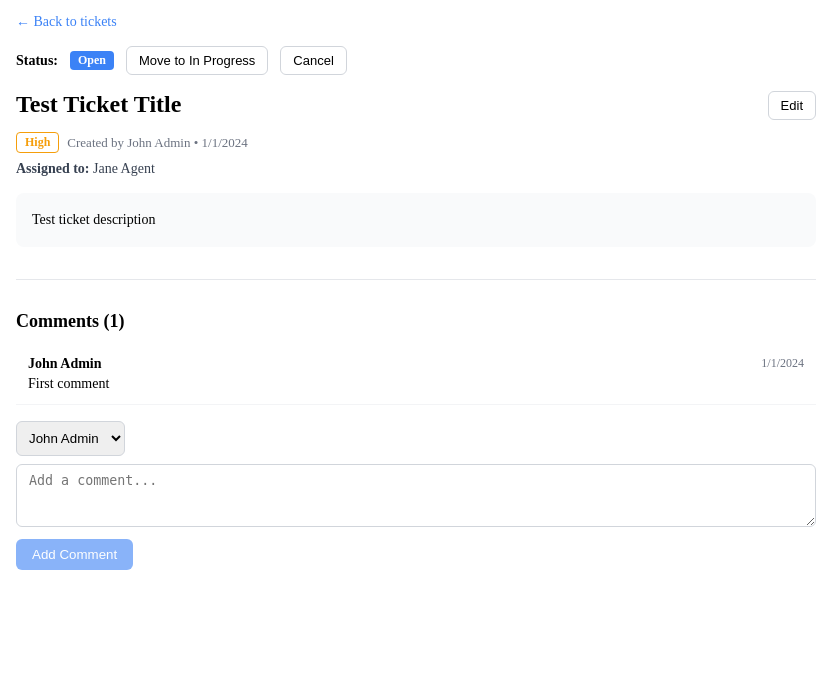
Scenario: TicketDetailPage › Edit button toggles to edit form for non-terminal tickets
Check: the heading "Test Ticket Title" is shown, box [16,91,181,118]
What coordinates should you click on to do the following:
click the button "Edit"
I would click on:
 (792, 106)
Its box is [768,91,816,120].
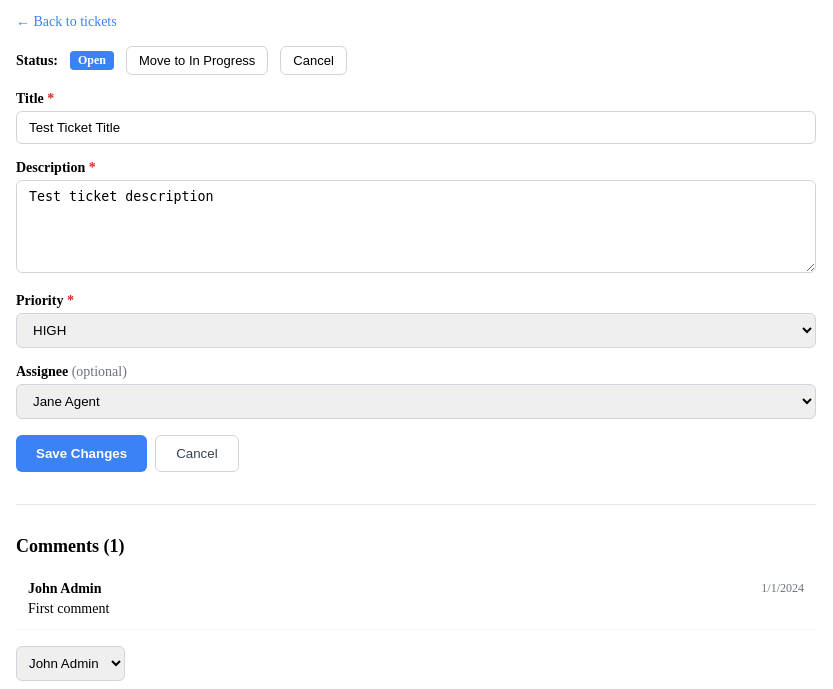
Check: the button "Save Changes" is shown, box [16,435,147,472]
